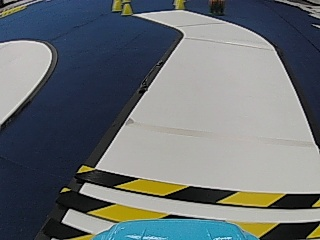bump: (46, 165, 317, 236)
